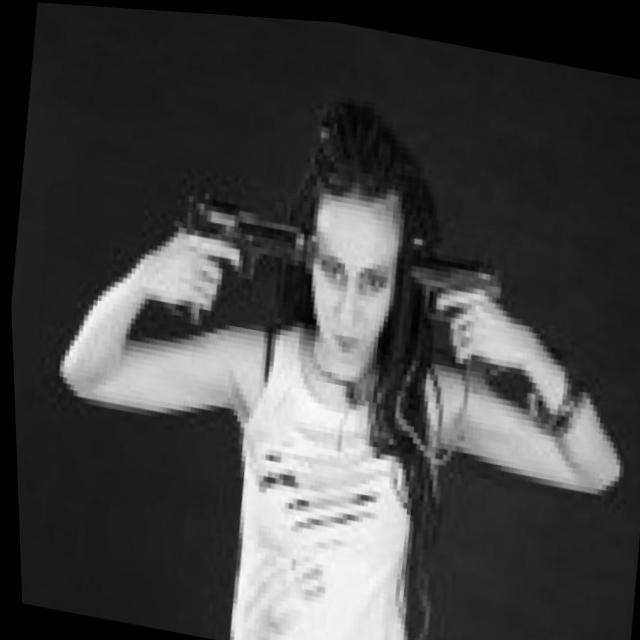weapon: (168, 176, 312, 330), (394, 232, 516, 369)
